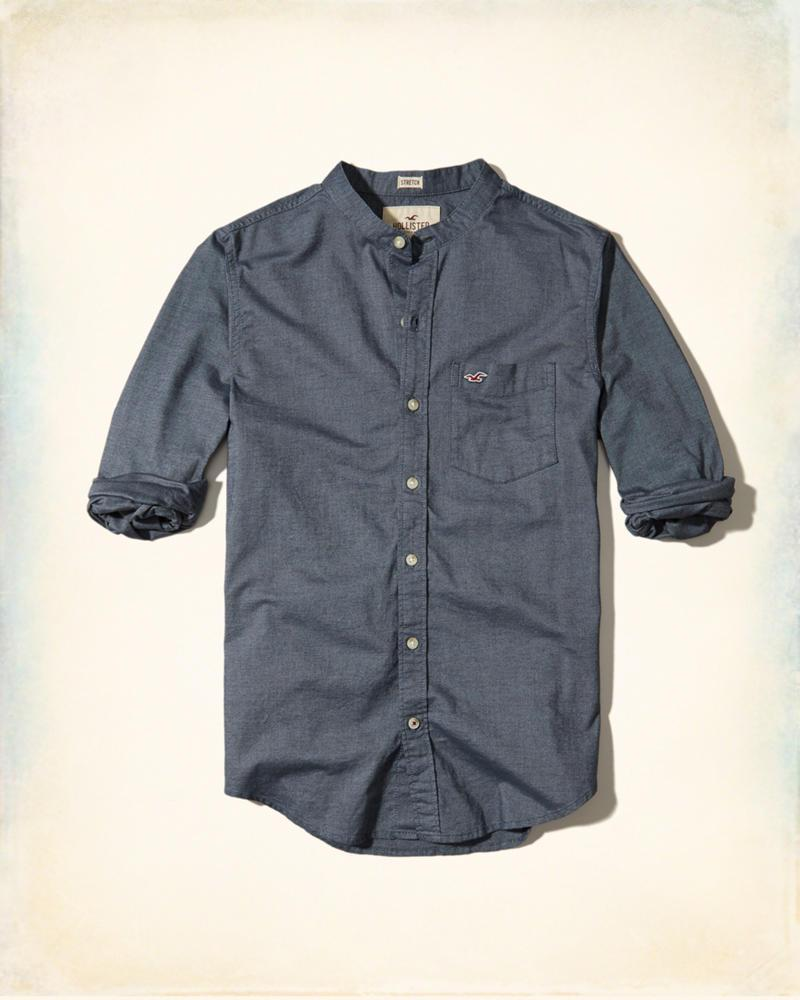teeshirt: (79, 140, 750, 875)
